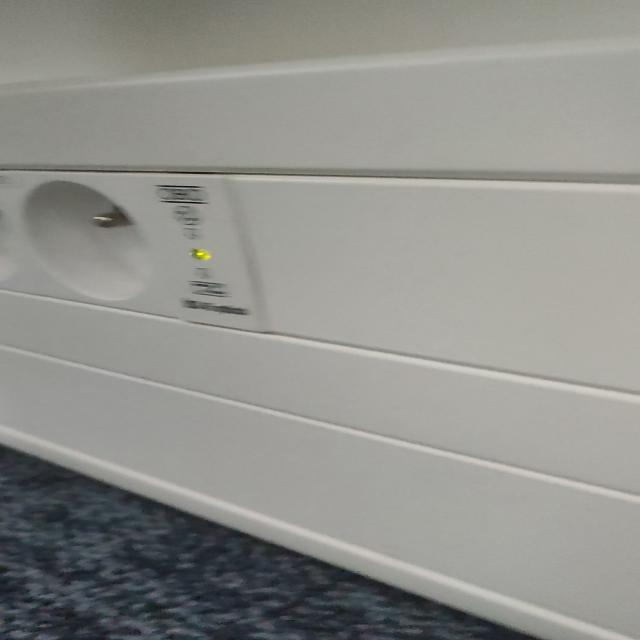house plug: (15, 171, 178, 318)
